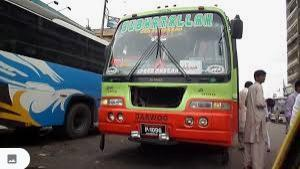bus: (100, 9, 242, 153), (2, 2, 108, 139)
